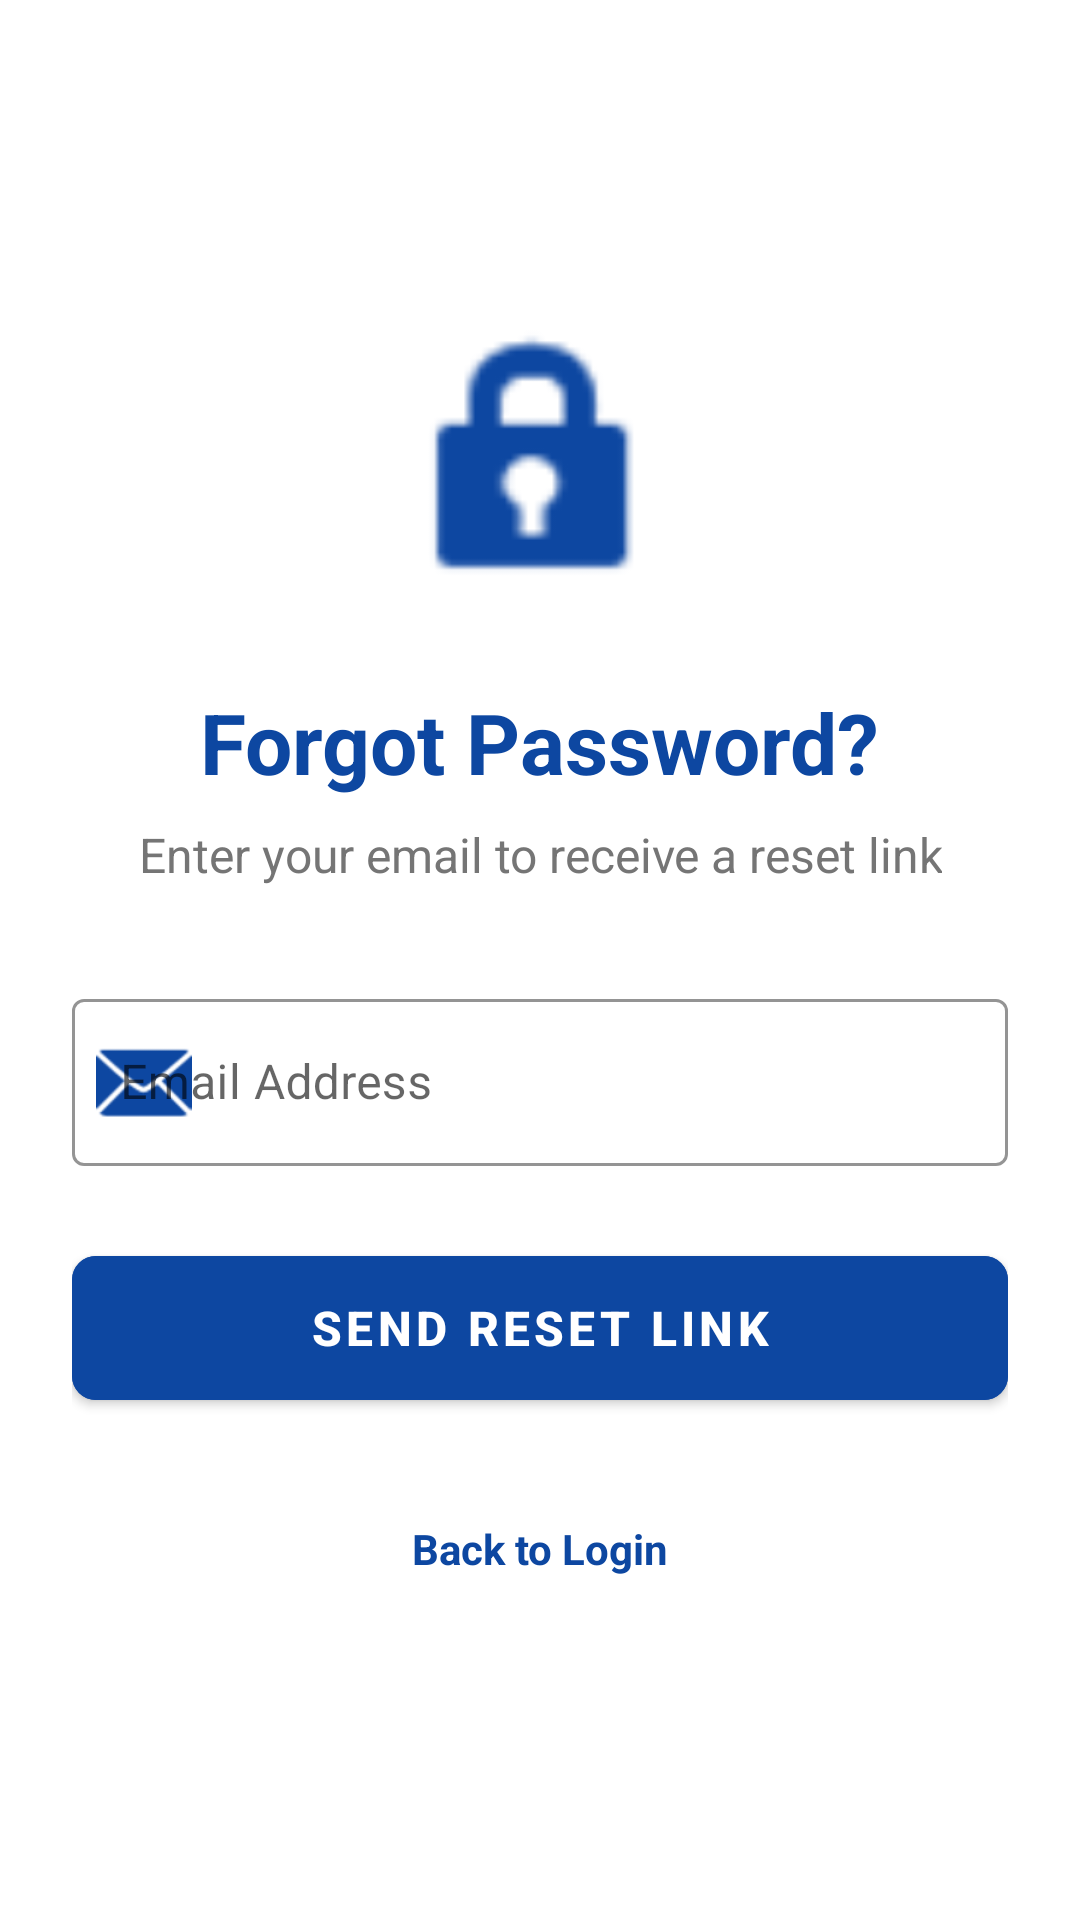

Point at icon controls on the screen. Image size 1080w x 1920h, points as (x,y).
lock idle: (533,454)
